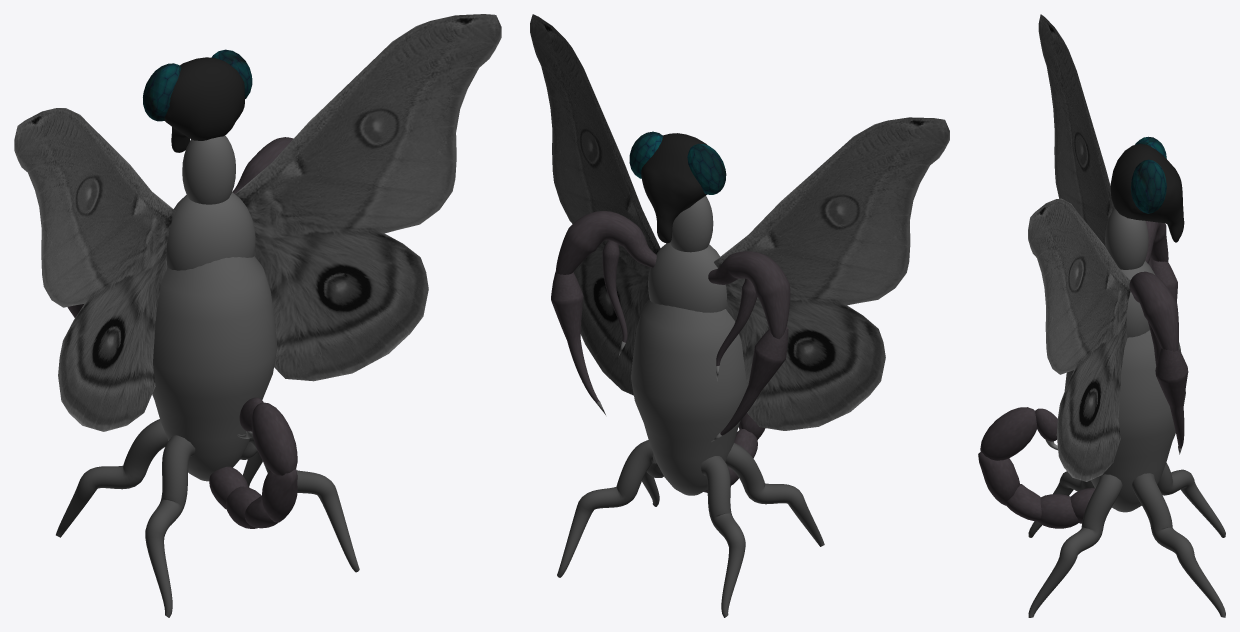
File: queenwalk.glb
The picture shows the model from 3 angles, left to right: view 1: azimuth 30°, elevation 25°; view 2: azimuth 150°, elevation 25°; view 3: azimuth 270°, elevation 25°; orthographic projection. The views are drawn at different scales.
Visible parts, largest first — view 1: Plane.002, Plane.001, Body, Head, Neck, Icosphere.005, BezierCurve, BezierCurve.001, Neck 2, Icosphere.006, BezierCurve.003, Eye (+2 smaller); view 2: Plane.001, Plane.002, Body, Neck, Head, BezierCurve.005, BezierCurve.009, BezierCurve.002, BezierCurve.001, BezierCurve, BezierCurve.004, BezierCurve.008 (+6 smaller); view 3: Plane.002, Plane.001, Body, Icosphere.005, Head, BezierCurve.002, BezierCurve.003, BezierCurve.005, Icosphere.006, Neck 2, BezierCurve.004, Eye 2 (+6 smaller).
Boxes of the visible parts, box(x1,y1,x2,y2) form: Plane.002: box(235, 14, 501, 381); Plane.001: box(14, 108, 175, 431); Body: box(152, 256, 277, 481); Head: box(164, 57, 244, 152); Neck: box(166, 192, 255, 270); Icosphere.005: box(209, 466, 297, 528); BezierCurve: box(145, 435, 195, 617); BezierCurve.001: box(56, 419, 168, 537); Neck 2: box(182, 135, 235, 204); Icosphere.006: box(251, 402, 297, 475); BezierCurve.003: box(249, 436, 359, 572); Eye: box(143, 63, 181, 121); Plane.001: box(714, 117, 949, 430); Plane.002: box(530, 14, 660, 395); Body: box(631, 299, 746, 495); Neck: box(648, 243, 726, 312); Head: box(641, 133, 707, 243); BezierCurve.005: box(555, 211, 656, 274); BezierCurve.009: box(708, 251, 790, 338); BezierCurve.002: box(557, 440, 656, 577); BezierCurve.001: box(701, 456, 745, 617); BezierCurve: box(725, 443, 824, 546); BezierCurve.004: box(551, 272, 598, 402); BezierCurve.008: box(720, 326, 788, 435); Plane.002: box(1028, 198, 1130, 481); Plane.001: box(1038, 14, 1114, 246); Body: box(1064, 330, 1185, 512); Icosphere.005: box(978, 452, 1094, 528); Head: box(1110, 143, 1184, 242); BezierCurve.002: box(1132, 473, 1225, 617); BezierCurve.003: box(1028, 474, 1122, 617); BezierCurve.005: box(1129, 271, 1178, 351); Icosphere.006: box(980, 407, 1037, 460); Neck 2: box(1105, 208, 1148, 269); BezierCurve.004: box(1155, 348, 1188, 448); Eye 2: box(1131, 159, 1166, 213).
Bounding box in the file's own units: 9.65 × 10.04 × 4.88.
7 materials, 3 textured.
